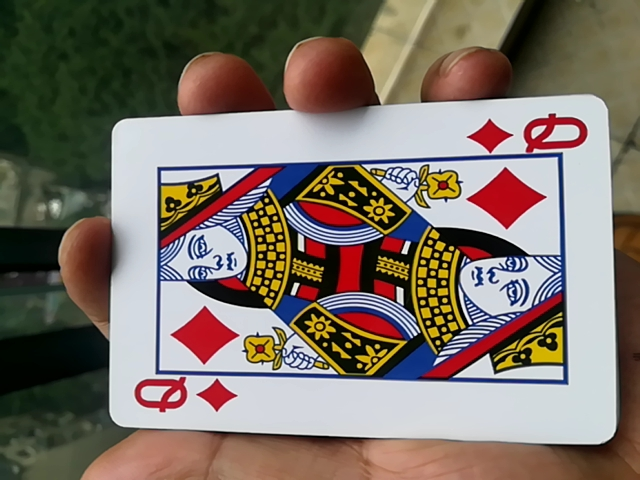fk q: (92, 103, 619, 452)
